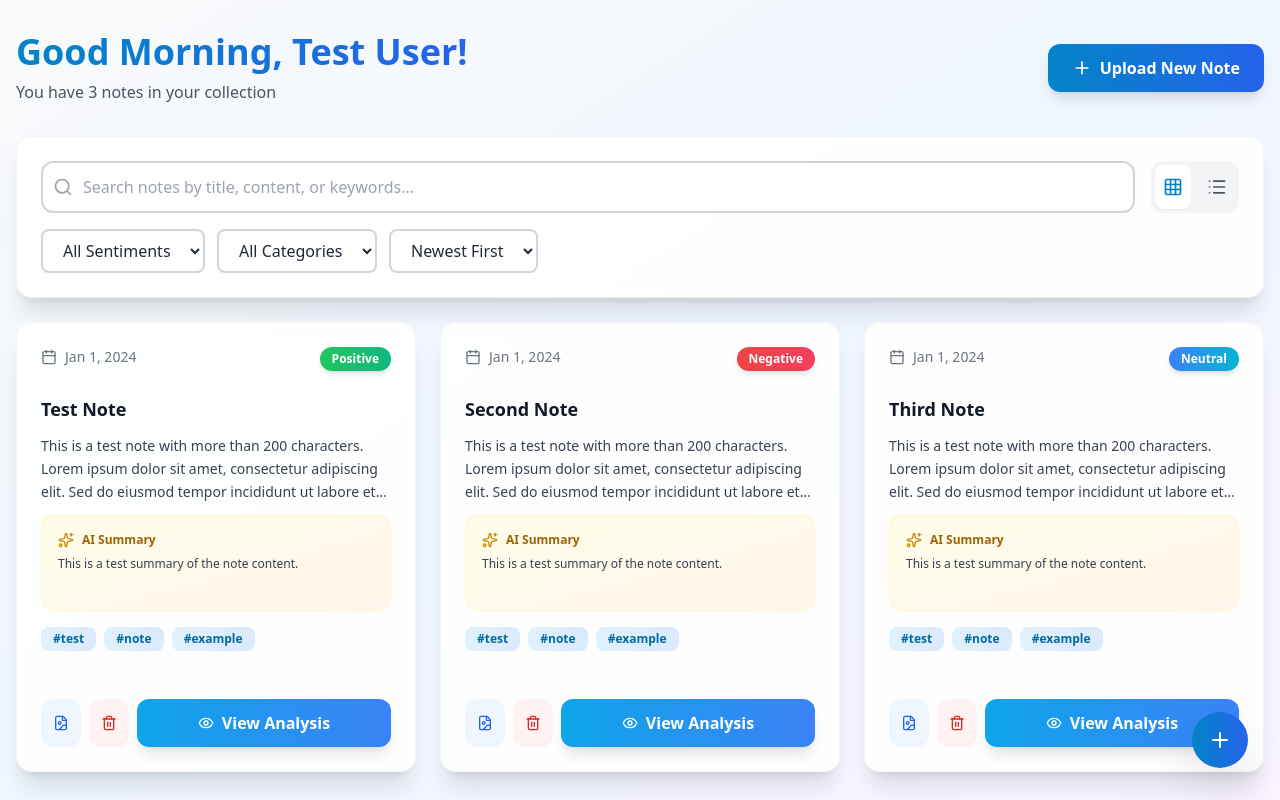
it: Dashboard Component › Delete Functionality › should open delete modal when delete button clicked
The width and height of the screenshot is (1280, 800).
expect the heading "Test Note" is shown: met, box left=41, top=397, right=126, bottom=421
Step 1. Click the 1st button titled "Delete note" → (109, 723), box left=89, top=699, right=129, bottom=747
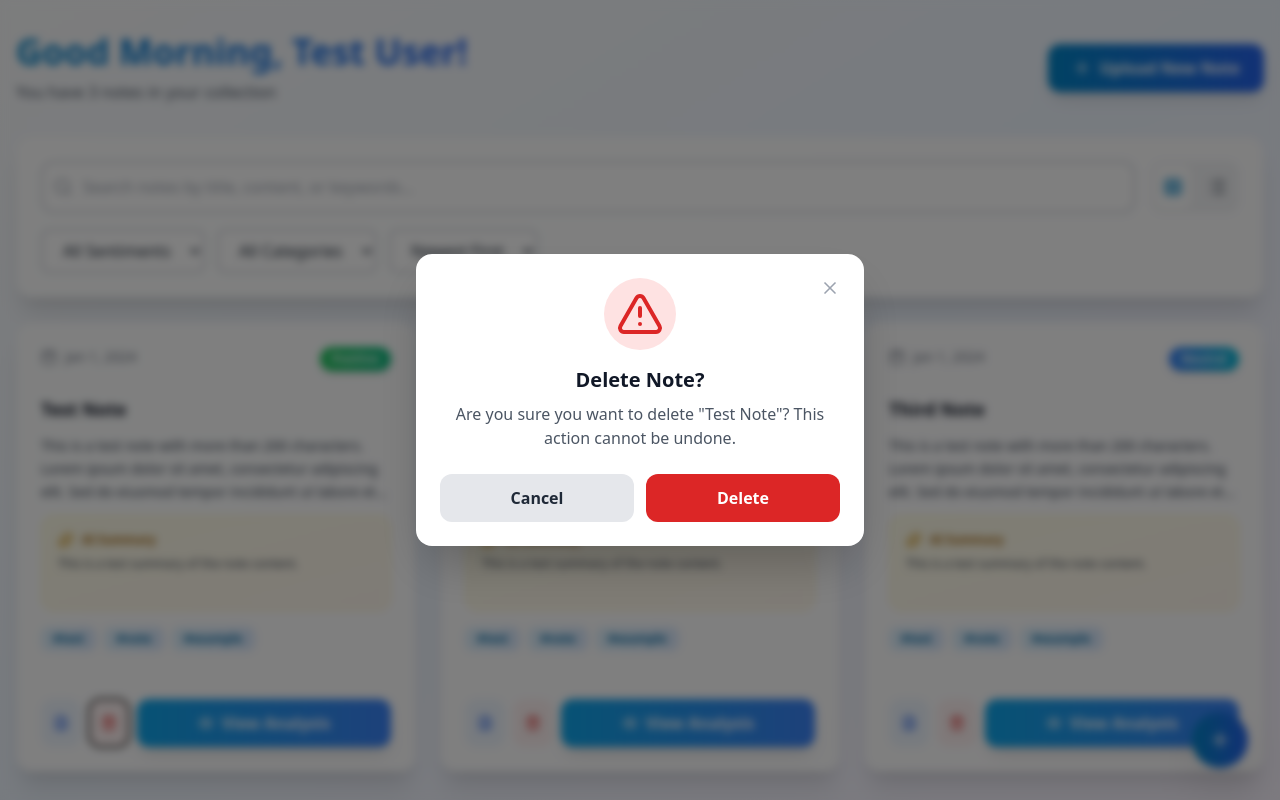
expect the heading "Delete Note?" is shown: met, box left=576, top=366, right=704, bottom=393
